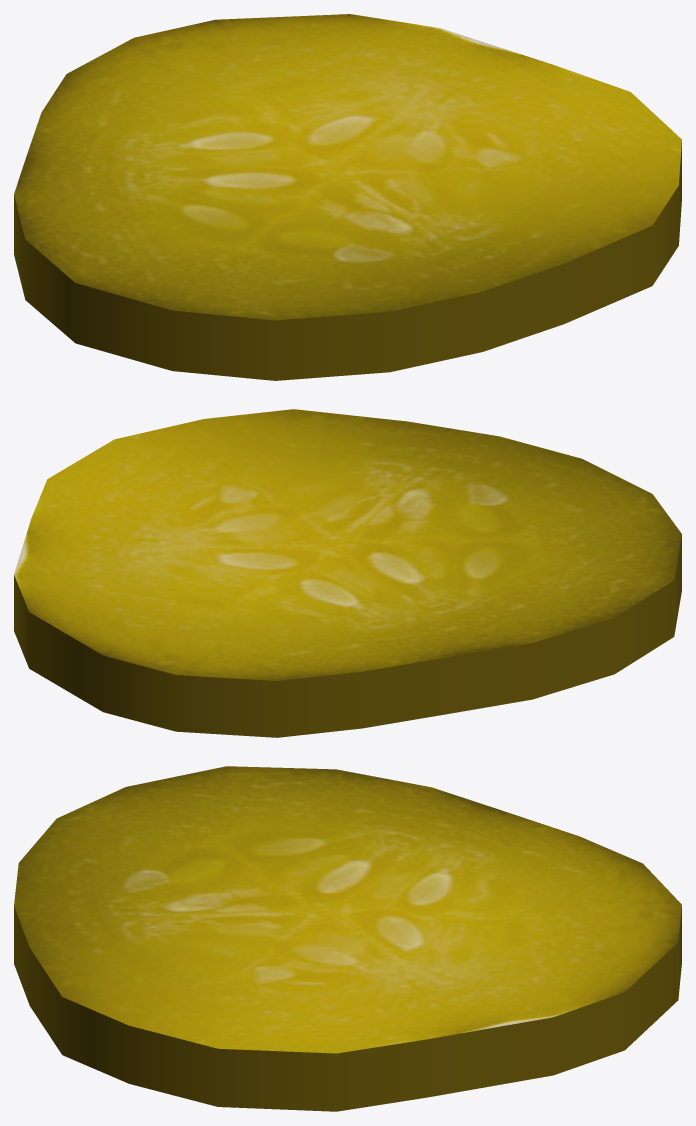
Rendered from Model_Pickle.fbx.
3 views of the same model, one above another, from view 1: azimuth 30°, elevation 25°; view 2: azimuth 150°, elevation 25°; view 3: azimuth 270°, elevation 25° (orthographic). The views are drawn at different scales.
Visible parts, largest first — view 1: pCylinder1; view 2: pCylinder1; view 3: pCylinder1.
Boxes of the visible parts, x1,y1,x2,y2 form: pCylinder1: (14,14,681,380); pCylinder1: (14,409,681,737); pCylinder1: (14,766,681,1111).
Size of the model in its own units: 0.1729 by 0.0163 by 0.1699.
1 material, 1 textured.
